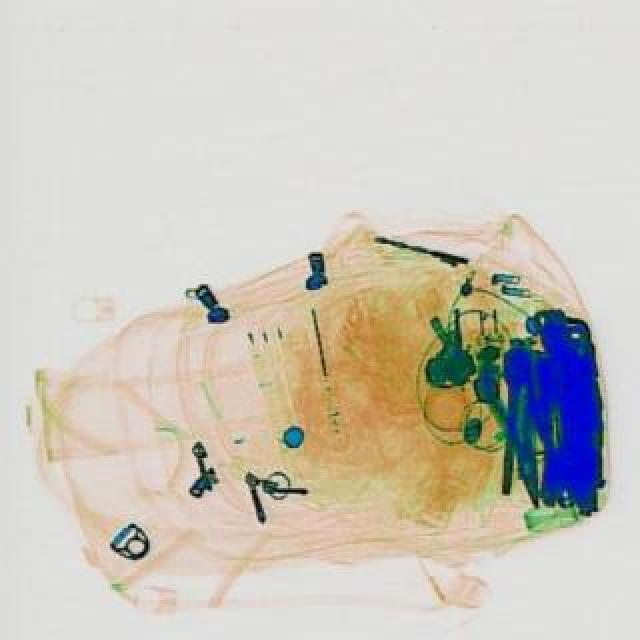wrench: (474, 344, 562, 512), (486, 342, 558, 494)
